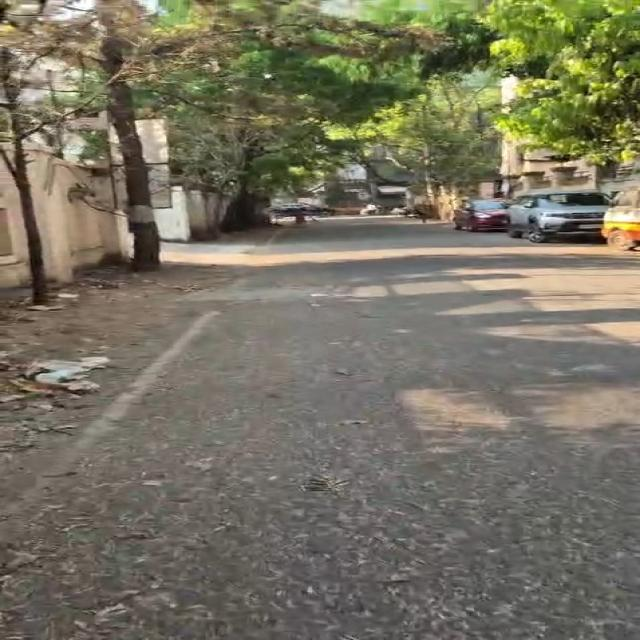bench: (508, 189, 609, 243), (602, 187, 639, 250), (453, 199, 507, 231)
